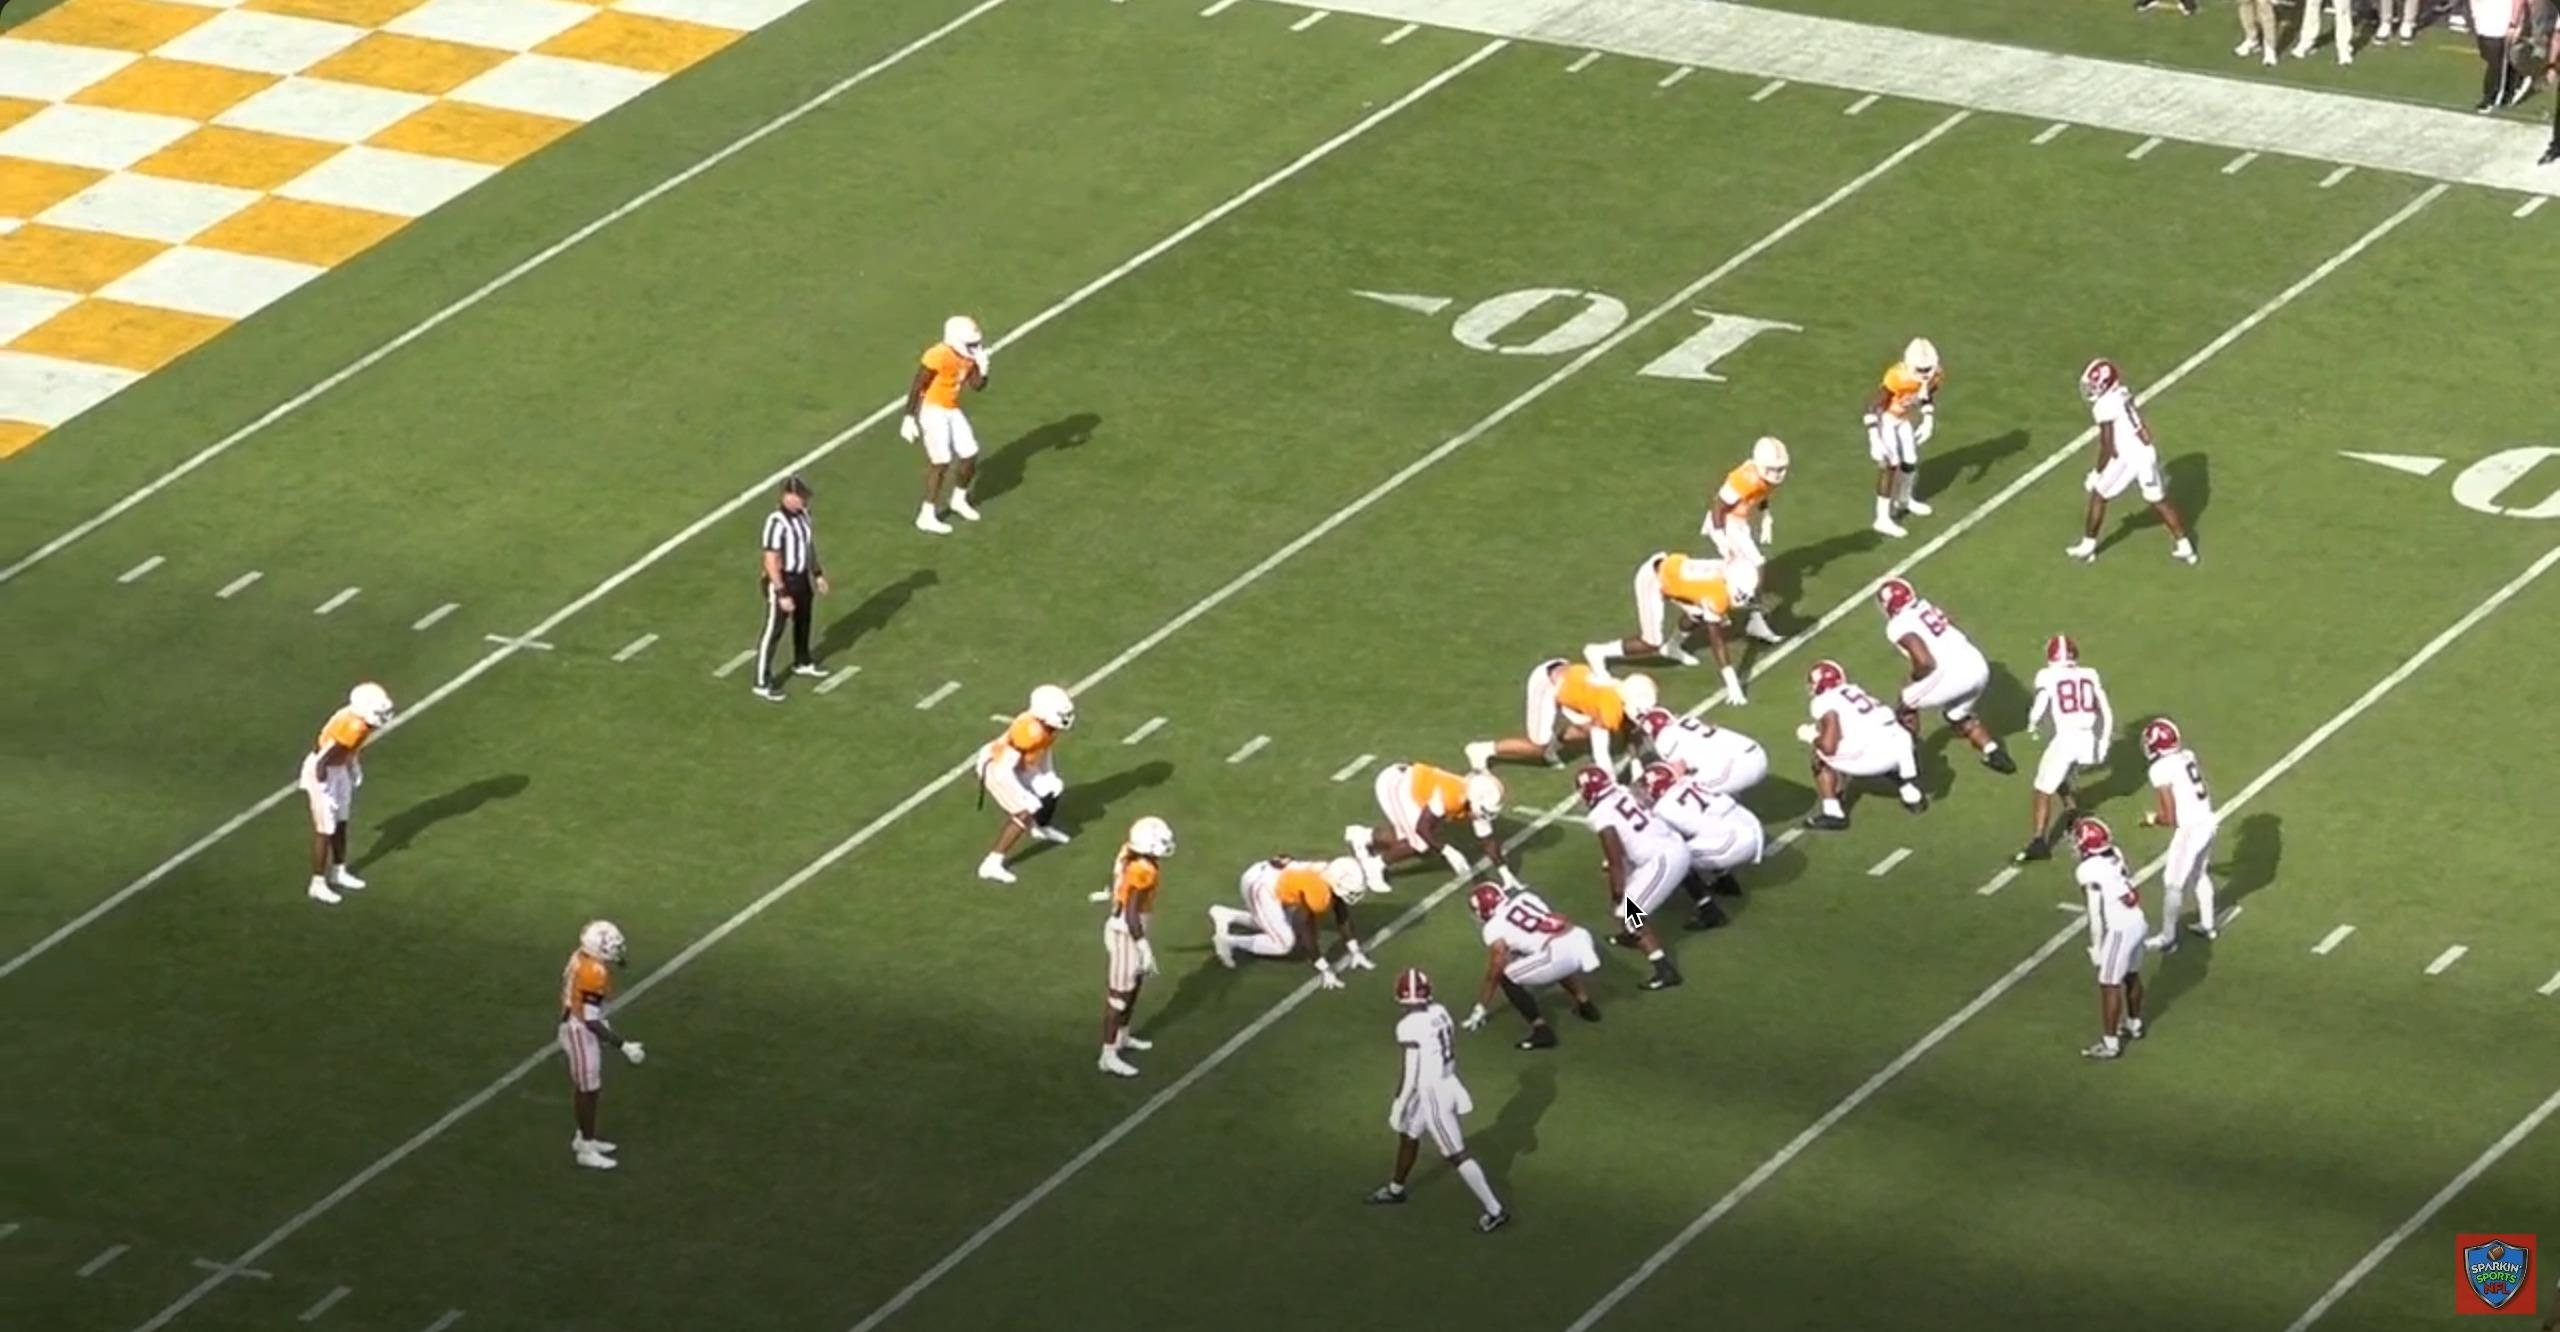defense: (1580, 547, 1769, 706), (1475, 652, 1673, 785), (538, 909, 638, 1168), (1212, 843, 1387, 990), (911, 305, 1014, 545), (1095, 814, 1185, 1090), (300, 670, 403, 902), (1346, 758, 1517, 895), (975, 679, 1087, 887), (1708, 430, 1805, 648), (1856, 333, 1944, 547)
oline: (1871, 579, 2018, 795), (1570, 775, 1693, 1000), (1791, 657, 1937, 839), (1646, 701, 1785, 853), (1661, 760, 1774, 933)
qb: (2128, 718, 2221, 956)
ref: (740, 487, 830, 714), (2533, 39, 2560, 178)
skill: (1378, 975, 1517, 1237), (2074, 357, 2213, 581), (1458, 872, 1603, 1060), (2006, 633, 2115, 867), (2059, 816, 2155, 1058)
